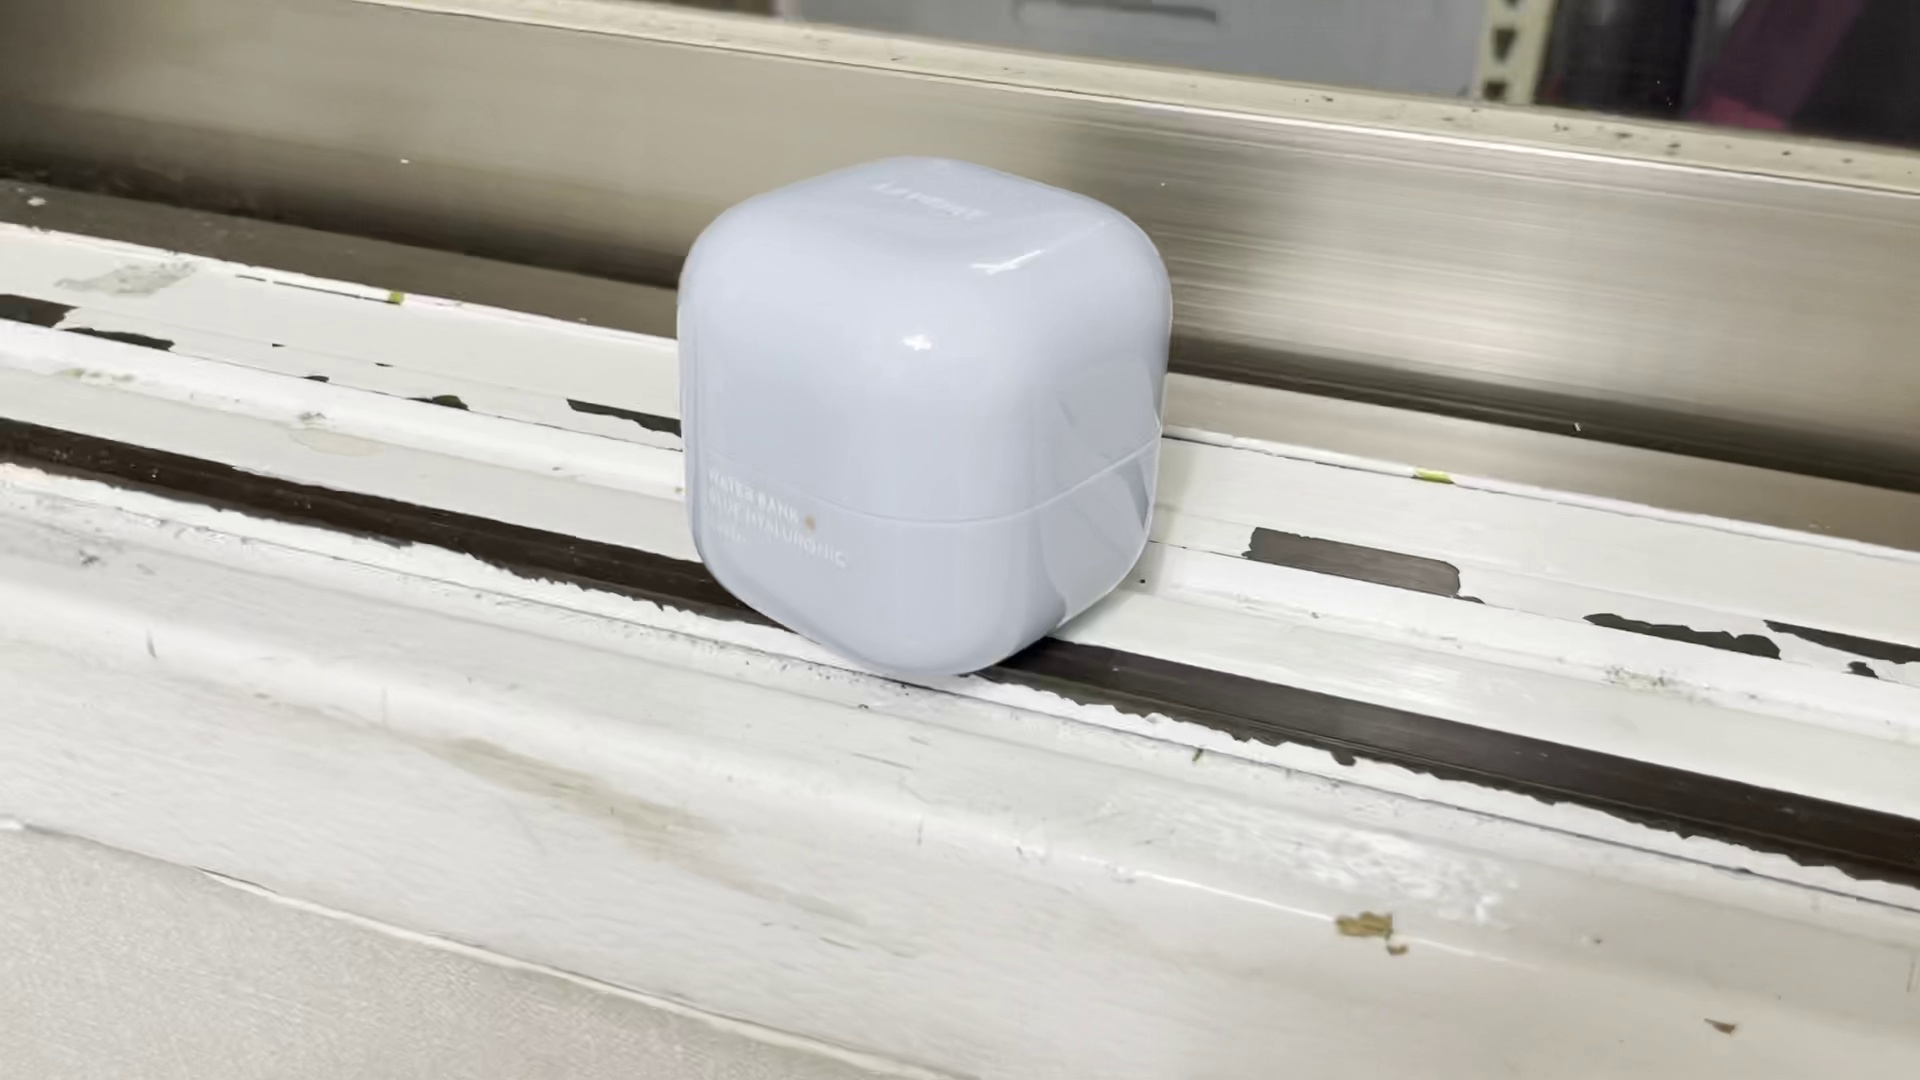cream: (676, 158, 1168, 669)
